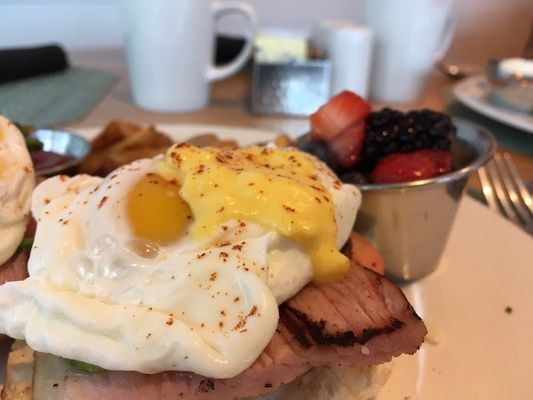pizza: (118, 0, 260, 114)
sushi: (302, 95, 497, 285)
